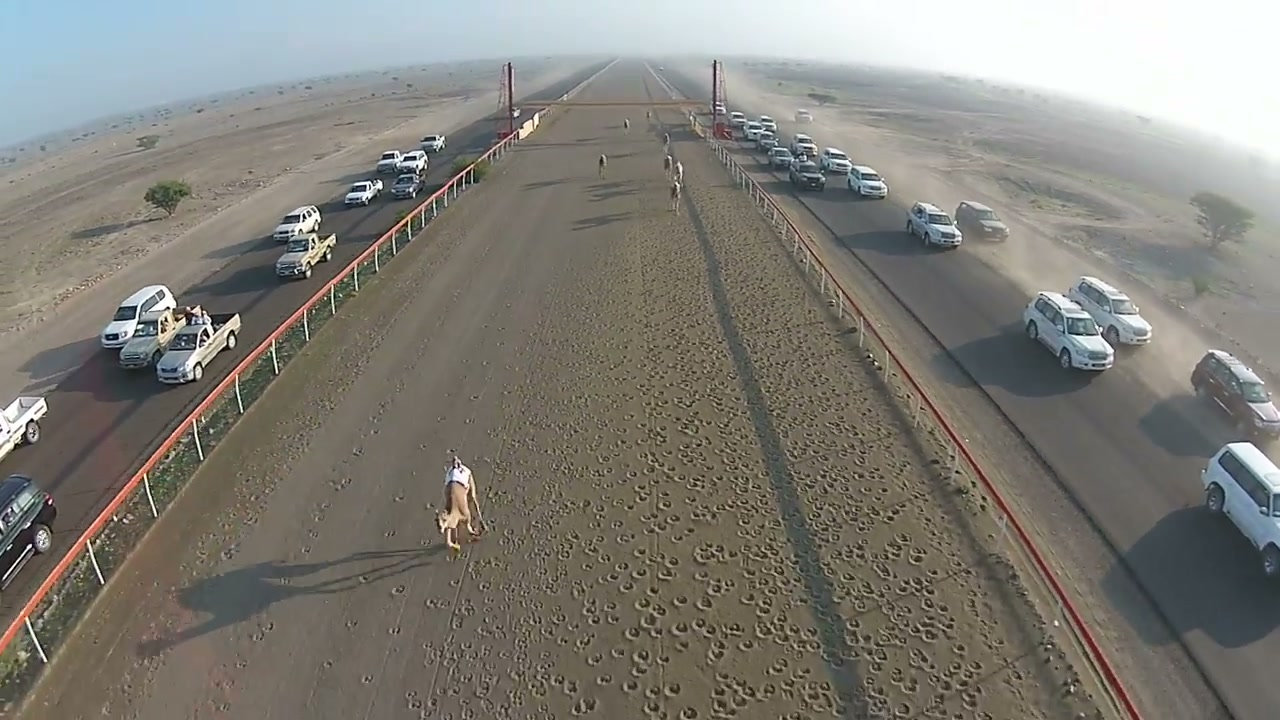animal_footprint: (499, 206, 1002, 713)
